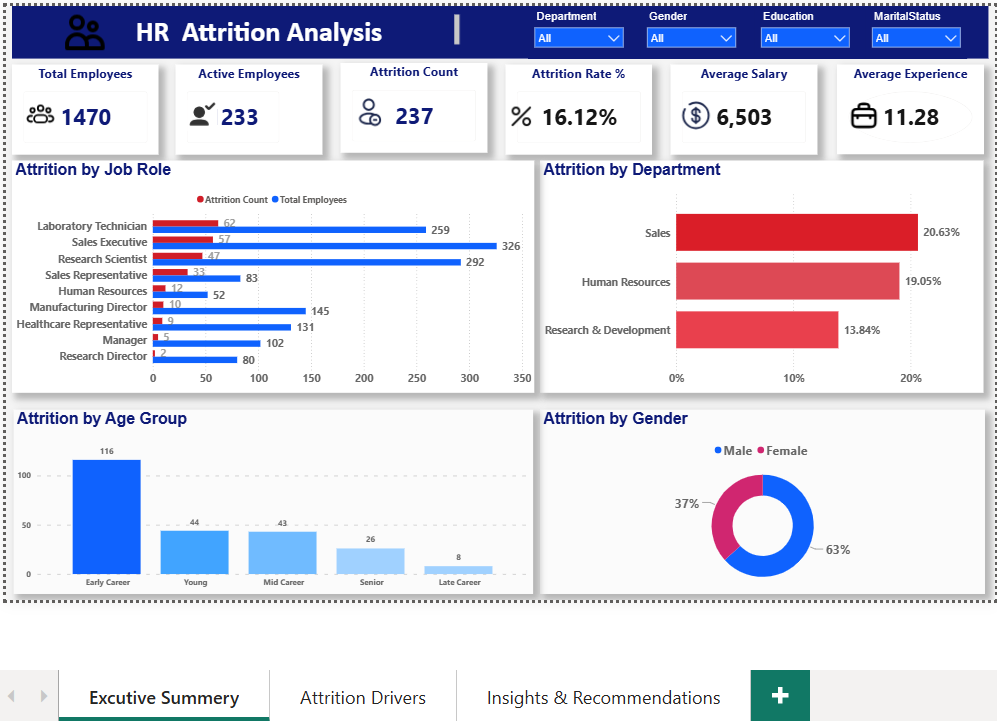

The dashboard page shown, as its layout file describes it:
{"tool":"powerbi","page":{"name":"Excutive Summery ","canvas":[1500,900],"ordinal":0},"visuals":[{"type":"cardVisual","title":"Total  Employees","fields":{"Data":["ibm_hr employee_attrition_dataset.Total Employees"]},"box":[9.1,88.6,222,136.4],"z":0},{"type":"cardVisual","title":"Active Employees","fields":{"Data":["ibm_hr employee_attrition_dataset.Active Employees"]},"box":[256.8,88.6,222.7,136.4],"z":1000},{"type":"cardVisual","title":"Attrition Count","fields":{"Data":["ibm_hr employee_attrition_dataset.Attrition Count"]},"box":[506.8,86.4,222.7,136],"z":2000},{"type":"cardVisual","title":"Attrition Rate %","fields":{"Data":["ibm_hr employee_attrition_dataset.Attrition Rate %"]},"box":[756.8,88.6,222,136.4],"z":3000},{"type":"cardVisual","title":"Average Salary","fields":{"Data":["ibm_hr employee_attrition_dataset.Average Salary"]},"box":[1006.8,88.6,222.7,136.4],"z":4000},{"type":"cardVisual","title":"Average Experience","fields":{"Data":["ibm_hr employee_attrition_dataset.Average Experience"]},"box":[1259.1,88.6,222.7,136],"z":5000},{"type":"shape","title":"HR  Attrition Analysis","box":[9.1,0,1479,79.5],"z":6000},{"type":"clusteredBarChart","title":"Attrition by Department","fields":{"Category":["ibm_hr employee_attrition_dataset.Department"],"Y":["ibm_hr employee_attrition_dataset.Attrition Rate %"]},"box":[809.6,234.8,672,352.2],"z":7000},{"type":"clusteredBarChart","title":"Attrition by Job Role","fields":{"Category":["ibm_hr employee_attrition_dataset.JobRole"],"Y":["ibm_hr employee_attrition_dataset.Attrition Count","ibm_hr employee_attrition_dataset.Total Employees"]},"box":[8.1,234.8,791.4,352.2],"z":8000},{"type":"donutChart","title":"Attrition by Gender","fields":{"Category":["ibm_hr employee_attrition_dataset.Gender"],"Y":["ibm_hr employee_attrition_dataset.Attrition Count"]},"box":[809.6,611.3,674,279.3],"z":9000},{"type":"columnChart","title":"Attrition by Age Group","fields":{"Category":["ibm_hr employee_attrition_dataset.Age_Group"],"Y":["ibm_hr employee_attrition_dataset.Attrition Count"]},"box":[12.1,611.3,787.3,279.3],"z":10000},{"type":"group","id":"g1","title":"Group 1","box":[790.9,0.2,665.4,79.5],"z":11000},{"type":"slicer","fields":{"Values":["ibm_hr employee_attrition_dataset.Department"]},"box":[790.9,0.2,154.5,79.5],"z":12000,"group":"g1"},{"type":"actionButton","box":[1271.7,139.1,69,54.3],"z":12000},{"type":"slicer","fields":{"Values":["ibm_hr employee_attrition_dataset.MaritalStatus"]},"box":[1302.3,0.2,154,79],"z":12500,"group":"g1"},{"type":"slicer","fields":{"Values":["ibm_hr employee_attrition_dataset.Gender"]},"box":[961.4,0.2,154.5,79.5],"z":13000,"group":"g1"},{"type":"actionButton","box":[1017.4,139.1,69,54.3],"z":13000},{"type":"actionButton","box":[758.7,145.7,43.5,43.5],"z":14000},{"type":"slicer","fields":{"Values":["ibm_hr employee_attrition_dataset.Education"]},"box":[1134.1,0.2,154,79.5],"z":15000,"group":"g1"},{"type":"actionButton","box":[521.7,134.8,69,54],"z":15000},{"type":"actionButton","box":[269.6,139.1,69.6,54.3],"z":16000},{"type":"actionButton","box":[26.1,137,69.6,54.3],"z":17000},{"type":"textbox","box":[93.5,6.5,600,60.9],"z":18000},{"type":"actionButton","box":[63.3,0,120,90],"z":19001}]}

Visuals, with their boxes on the page's 1500x900 design canvas (x1, y1, x2, y2). These are canvas units, not pixel positions in the 997x721 screenshot, which may show the page scaled, cropped or inside an application window:
"Total  Employees" cardVisual: bbox(9, 89, 231, 225)
"Active Employees" cardVisual: bbox(257, 89, 480, 225)
"Attrition Count" cardVisual: bbox(507, 86, 730, 222)
"Attrition Rate %" cardVisual: bbox(757, 89, 979, 225)
"Average Salary" cardVisual: bbox(1007, 89, 1230, 225)
"Average Experience" cardVisual: bbox(1259, 89, 1482, 225)
"HR  Attrition Analysis" shape: bbox(9, 0, 1488, 80)
"Attrition by Department" clusteredBarChart: bbox(810, 235, 1482, 587)
"Attrition by Job Role" clusteredBarChart: bbox(8, 235, 800, 587)
"Attrition by Gender" donutChart: bbox(810, 611, 1484, 891)
"Attrition by Age Group" columnChart: bbox(12, 611, 799, 891)
"Group 1" group: bbox(791, 0, 1456, 80)
slicer - ibm_hr employee_attrition_dataset.Department: bbox(791, 0, 945, 80)
actionButton: bbox(1272, 139, 1341, 193)
slicer - ibm_hr employee_attrition_dataset.MaritalStatus: bbox(1302, 0, 1456, 79)
slicer - ibm_hr employee_attrition_dataset.Gender: bbox(961, 0, 1116, 80)
actionButton: bbox(1017, 139, 1086, 193)
actionButton: bbox(759, 146, 802, 189)
slicer - ibm_hr employee_attrition_dataset.Education: bbox(1134, 0, 1288, 80)
actionButton: bbox(522, 135, 591, 189)
actionButton: bbox(270, 139, 339, 193)
actionButton: bbox(26, 137, 96, 191)
textbox: bbox(94, 6, 694, 67)
actionButton: bbox(63, 0, 183, 90)
